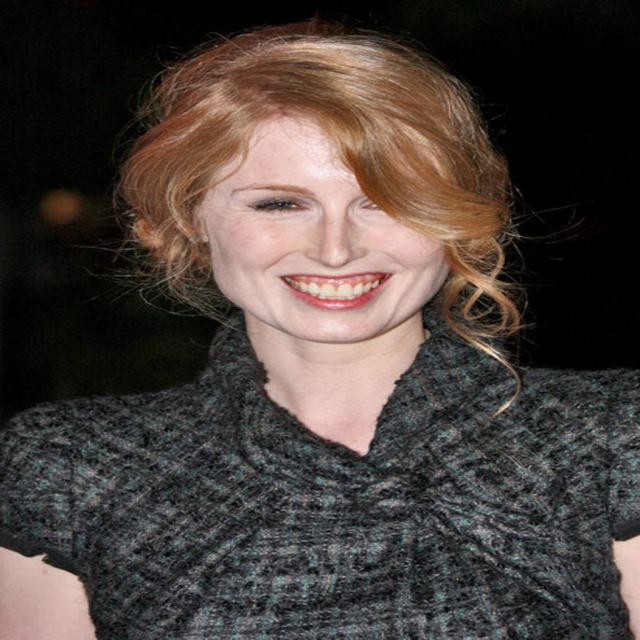Face: (168, 101, 467, 339)
